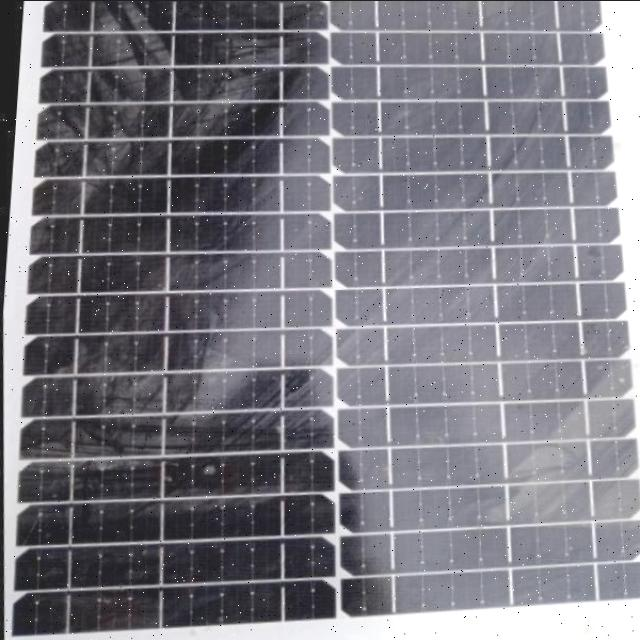Surface Contaminant: (11, 0, 640, 640)
